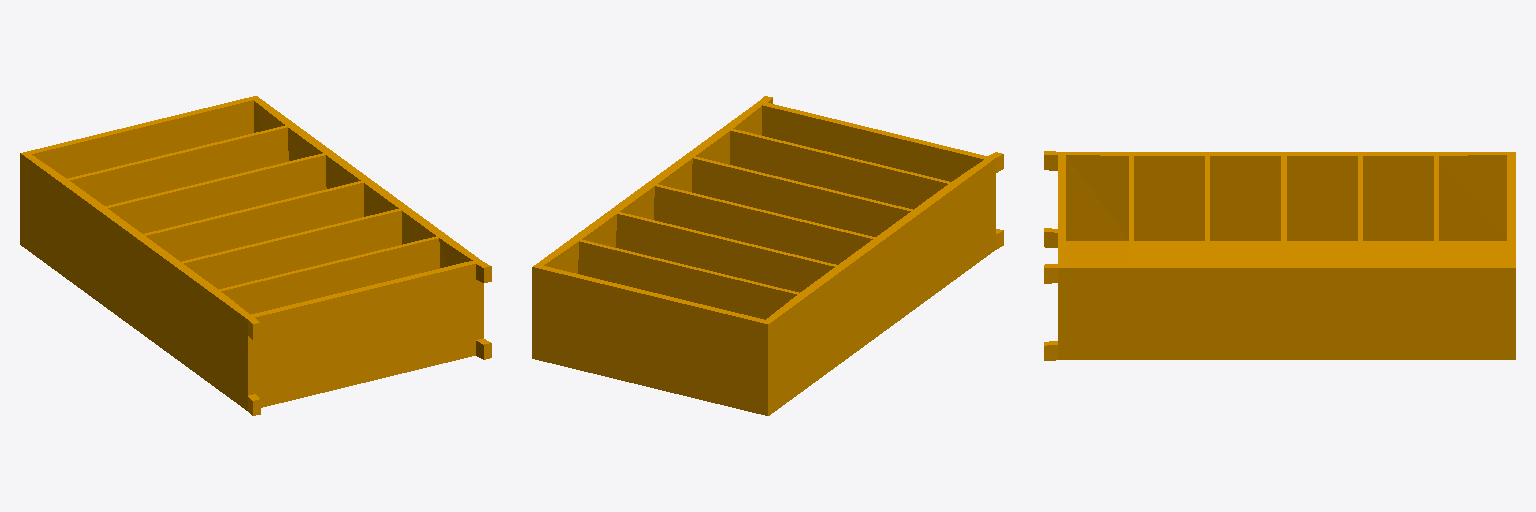
robot.urdf — none:
<robot name="none">
       <link name="none">
           <visual>
               <origin xyz="0 0 0" />
               <geometry>
                   <mesh filename="uploads_files_2724147_Bookshelf.obj"  scale="0.8 0.8 0.8" />
               </geometry>
           </visual>
          <collision>
<origin rpy="1.57 0 0" xyz="0 0 1.25" />
              <geometry>
                  <box size="0.925899 2.500000 0.716547" />
              </geometry>
          </collision>

          <inertial>
            <mass value="0.0" />
            <inertia ixx="0.05" ixy="0.0" ixz="0.0" iyy="0.05" iyz="0.0" izz="0.05"/>
          </inertial>
      </link>
  </robot>

--- Render facts (derived) ---
Views: 3 orthographic renders of the robot side by side, from view 1: azimuth 30°, elevation 25°; view 2: azimuth 150°, elevation 25°; view 3: azimuth 270°, elevation 25°.
Robot: none — 1 links, 0 joints (none); root link none; default pose: all joints at 0.
Visible links, largest first — view 1: none; view 2: none; view 3: none.
Link boxes in pixels (box(x1,y1,x2,y2)): none: box(20, 96, 491, 415); none: box(532, 96, 1003, 415); none: box(1044, 151, 1515, 360).
Bounding box of the posed robot: 0.9721 × 1.65 × 0.3574 m (x, y, z).
Meshes: 1 distinct files referenced, 1 mesh visuals loaded (1 OBJ).